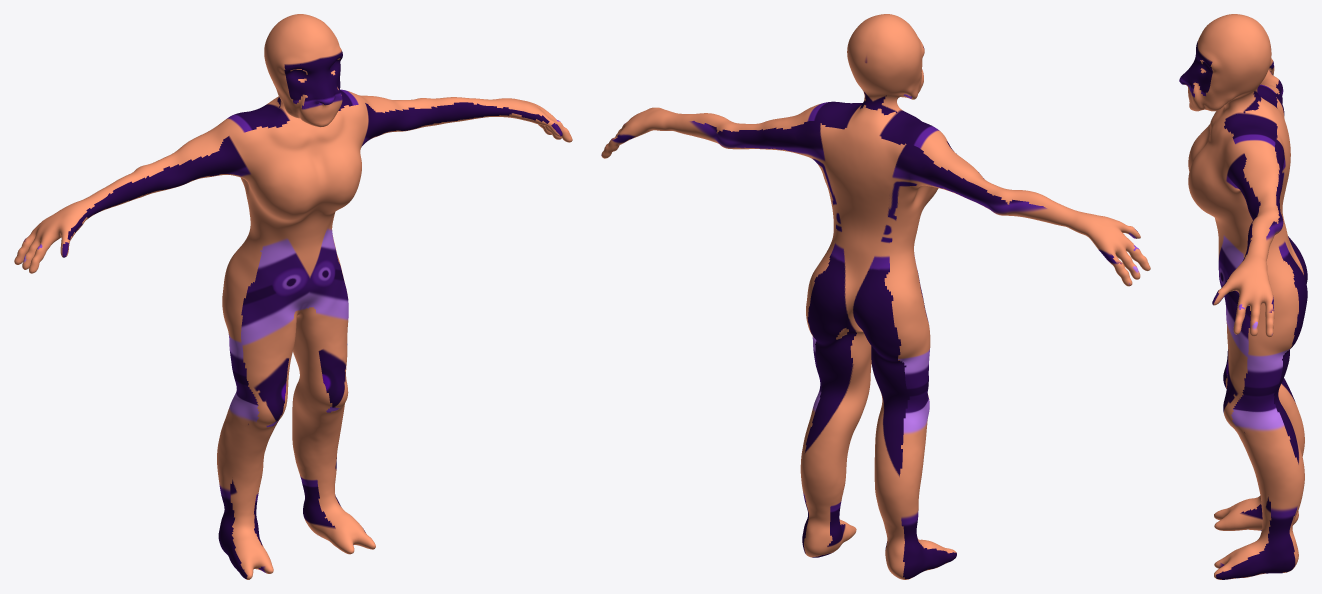
File: uwu.fbx
The picture shows the model from 3 angles, left to right: view 1: azimuth 30°, elevation 25°; view 2: azimuth 150°, elevation 25°; view 3: azimuth 270°, elevation 25°; orthographic projection.
Parts seen in each view (by area): view 1: test1; view 2: test1; view 3: test1.
Part boxes in pixels (x1=…): test1: x1=14, y1=14, x2=572, y2=579; test1: x1=601, y1=14, x2=1150, y2=579; test1: x1=1179, y1=14, x2=1307, y2=579.
Bounding box in the file's own units: 852 × 813 × 177.
